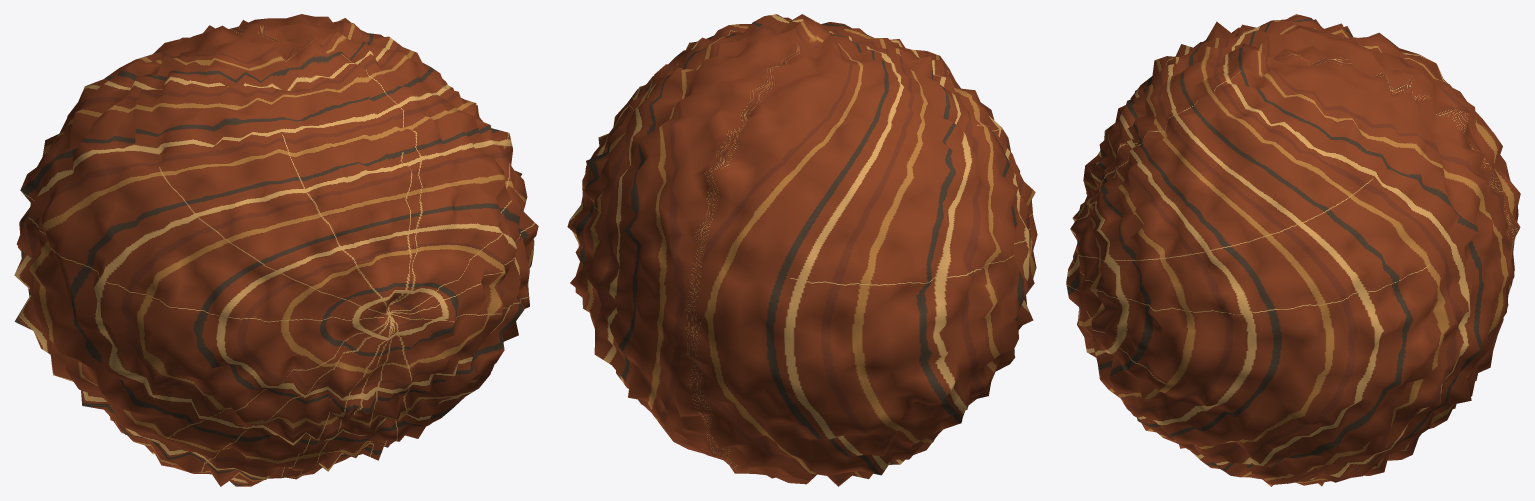
File: bong-01-raw-boulder.glb
3 views of the same model, side by side, from view 1: azimuth 30°, elevation 25°; view 2: azimuth 150°, elevation 25°; view 3: azimuth 270°, elevation 25° (orthographic). The views are drawn at different scales.
Visible parts, largest first — view 1: geometry_0; view 2: geometry_0; view 3: geometry_0.
Part boxes in pixels (x1,y1,x2,y2): geometry_0: [14, 14, 538, 486]; geometry_0: [567, 14, 1037, 486]; geometry_0: [1066, 14, 1520, 486].
Size of the model in its own units: 2.64 by 2.49 by 2.41.
1 material, 1 textured.
